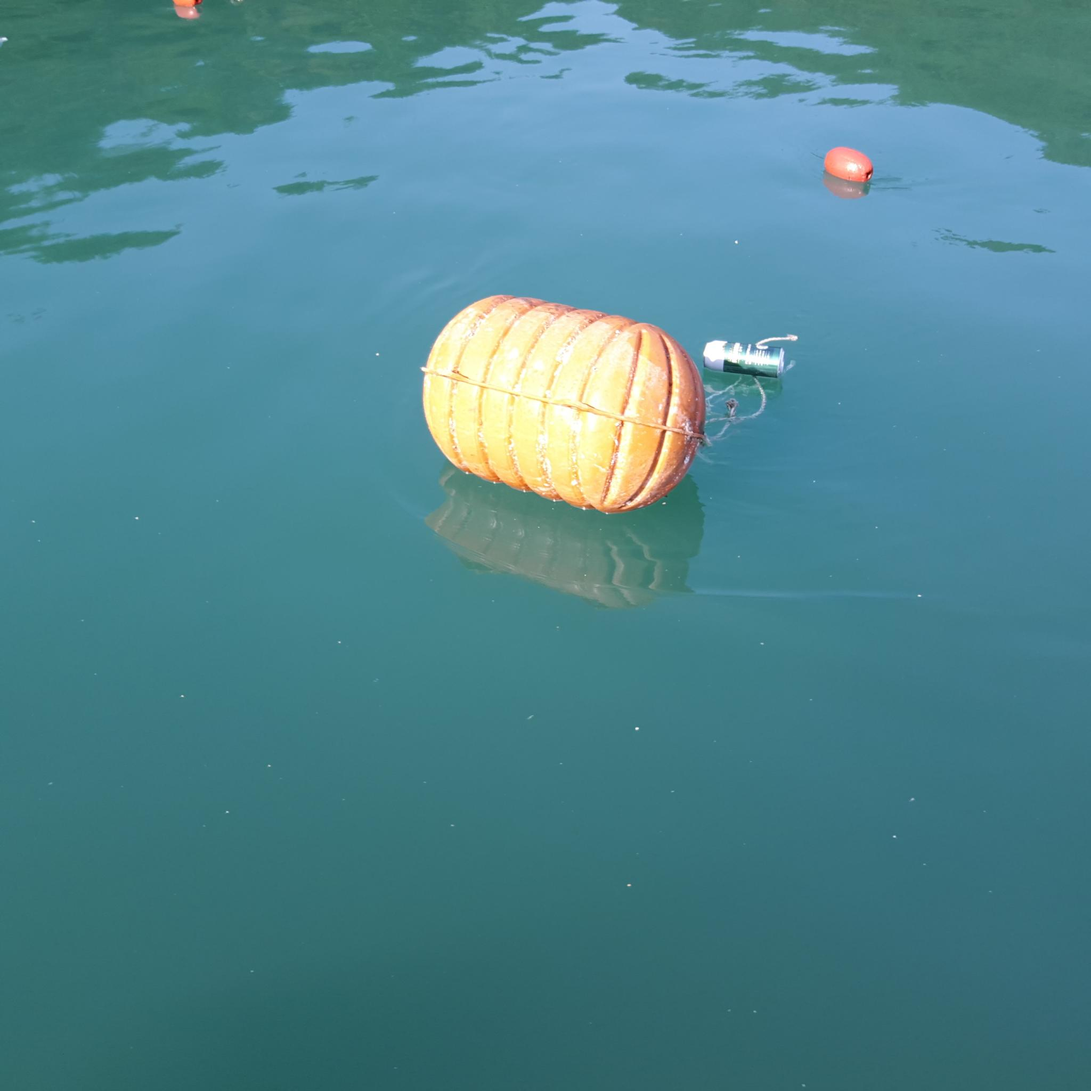sampah_terapung: (421, 295, 707, 515), (704, 335, 797, 447), (704, 341, 785, 379), (825, 147, 874, 183)
